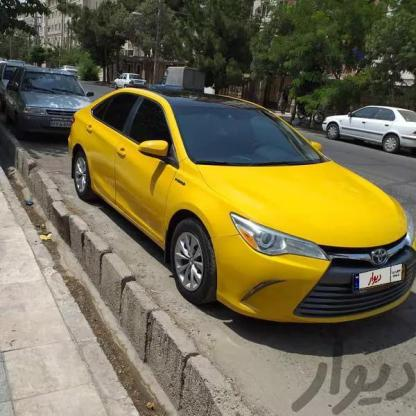Car: (61, 90, 416, 336), (320, 99, 416, 166), (0, 60, 85, 130), (107, 69, 149, 90)
